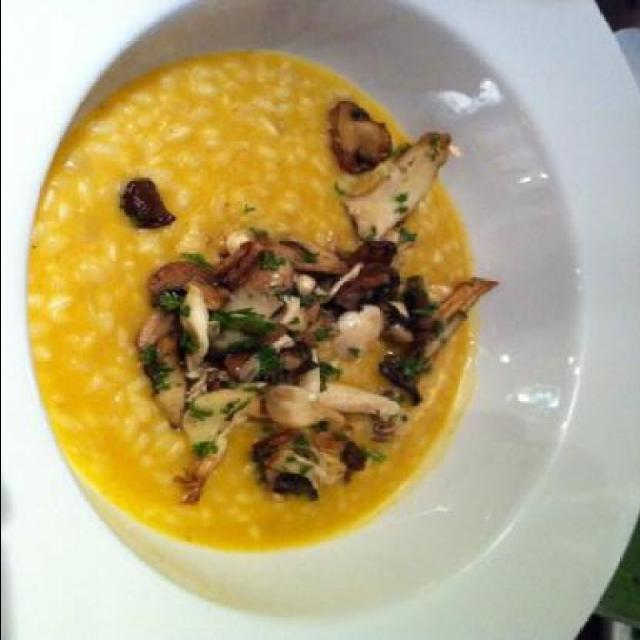Risotto: (50, 57, 470, 529)
